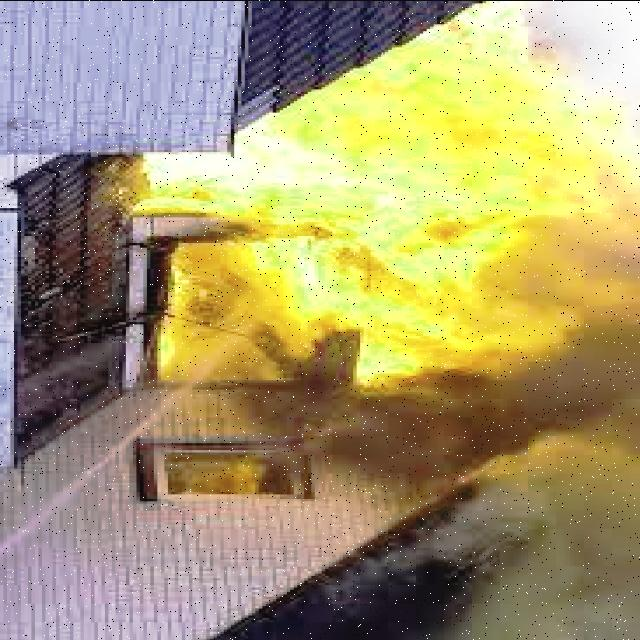api: (162, 55, 613, 469)
